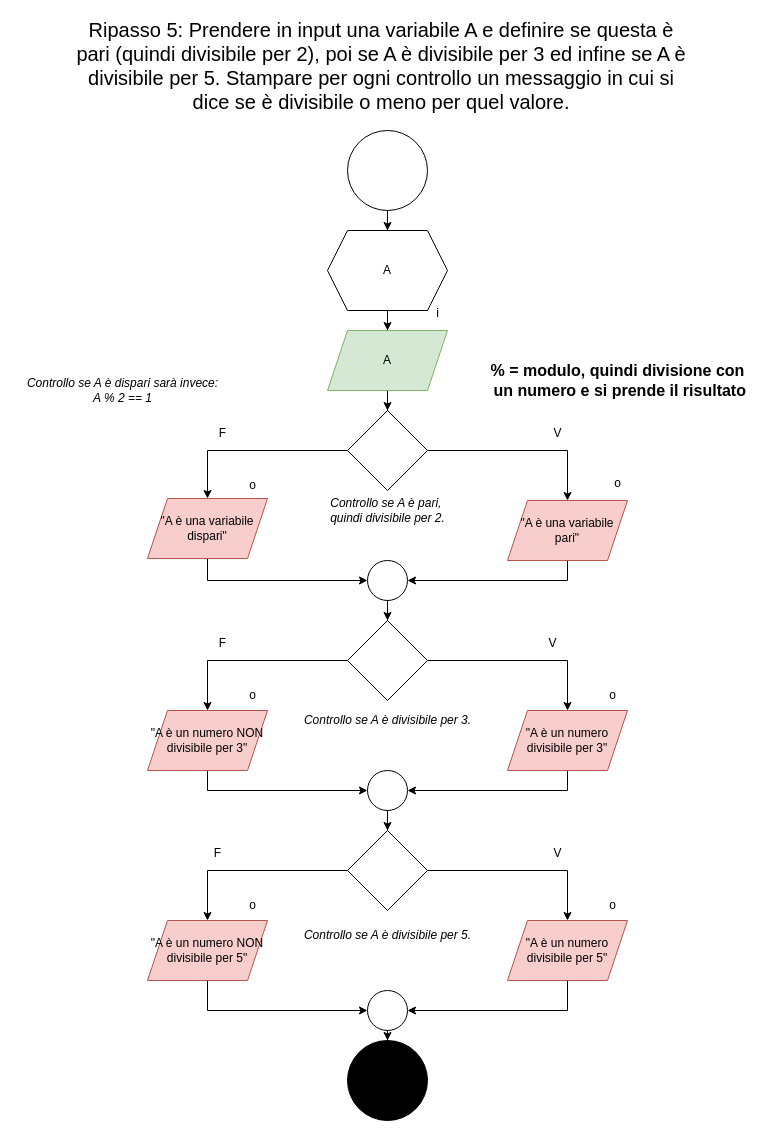
Some shapes in this 774 by 1138 pixel diagram are drawn without their labels. Each missing label, with the box of its shape:
A % 2 == 0: (346, 410, 428, 490)
A % 3 == 0: (346, 620, 428, 700)
A % 5 == 0: (346, 830, 428, 910)
